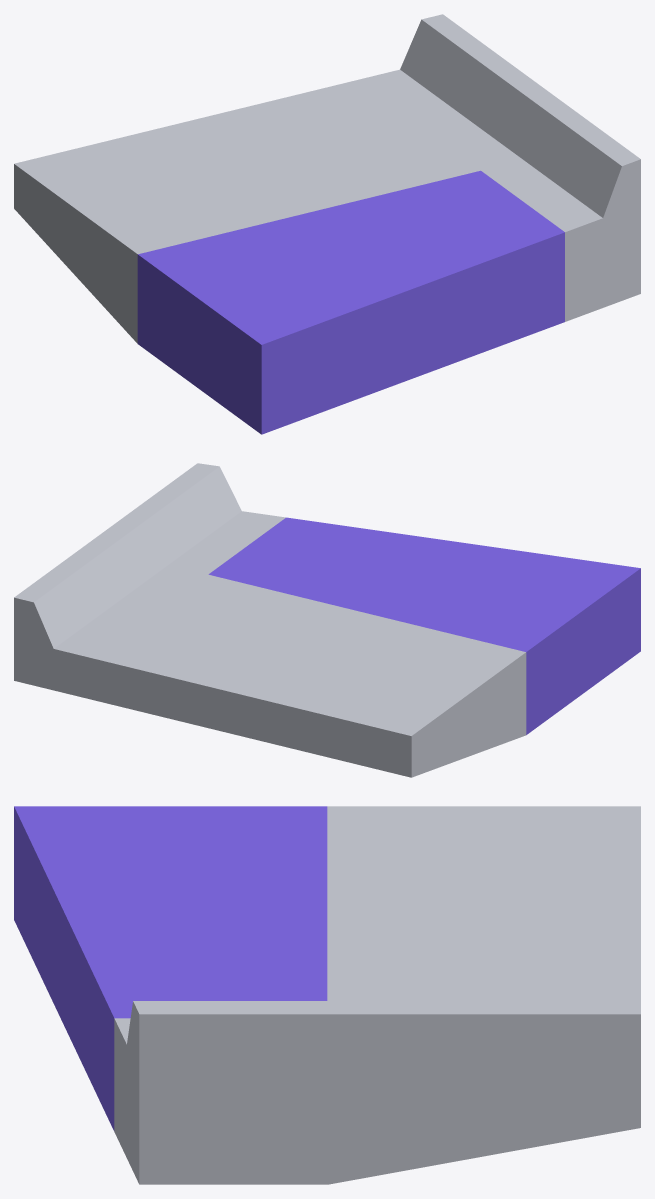
Rendered from Wing_2.fbx.
3 views of the same model, one above another, from view 1: azimuth 30°, elevation 25°; view 2: azimuth 150°, elevation 25°; view 3: azimuth 270°, elevation 25° (orthographic). The views are drawn at different scales.
Visible parts, largest first — view 1: wing_slantWinglet; view 2: wing_slantWinglet; view 3: wing_slantWinglet.
Part boxes in pixels (left/top/right/bottom): wing_slantWinglet: left=14, top=14, right=640, bottom=434; wing_slantWinglet: left=14, top=463, right=640, bottom=777; wing_slantWinglet: left=14, top=806, right=640, bottom=1184.
Bounding box in the file's own units: 10 × 3 × 10.
